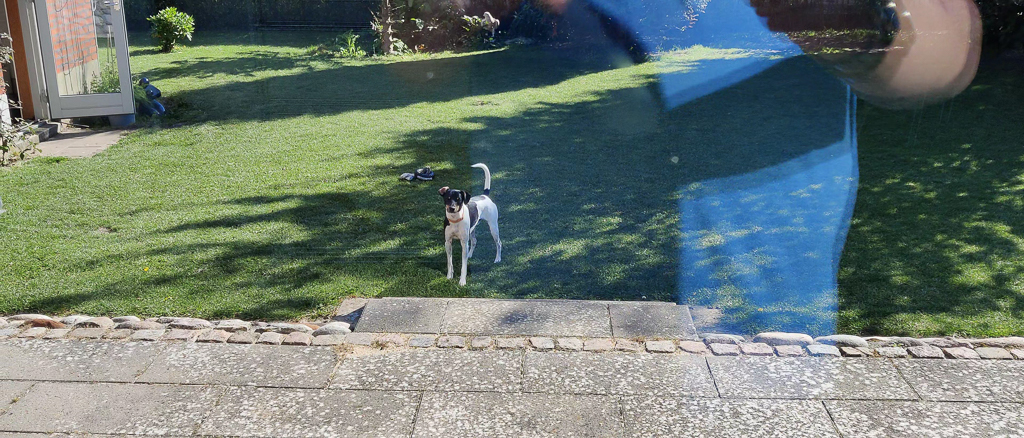Dog: (424, 150, 512, 294)
Eagle: (478, 10, 503, 42)
Humanoid: (130, 74, 171, 124)
